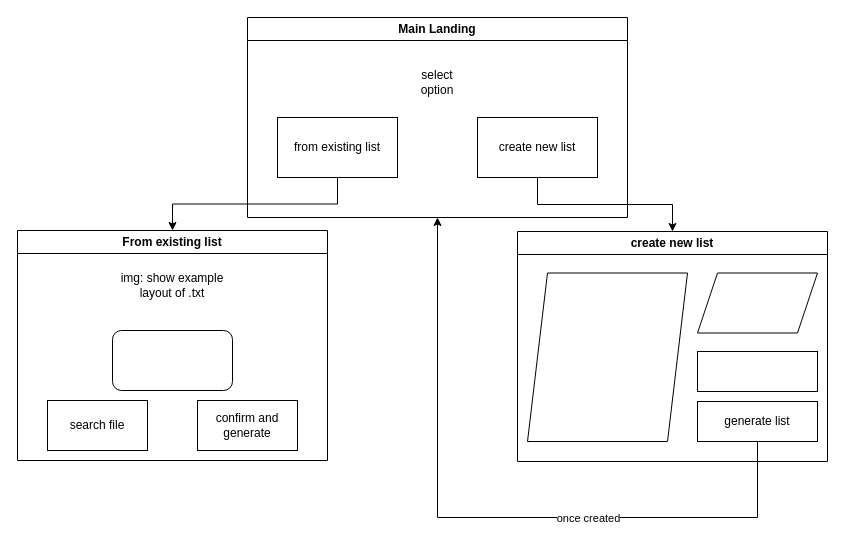
Some shapes in this 845 by 543 pixel diagram are drawn without their labels. The shapes that lost their labels are listed below. From the top down, each one's centre as x and y in pixels, then its label:
the point at 757,302: file extension input box
the point at 172,360: selected file: ** update when file is selected
the point at 607,357: editable text container for user to put in file names
the point at 757,371: where to generate list
